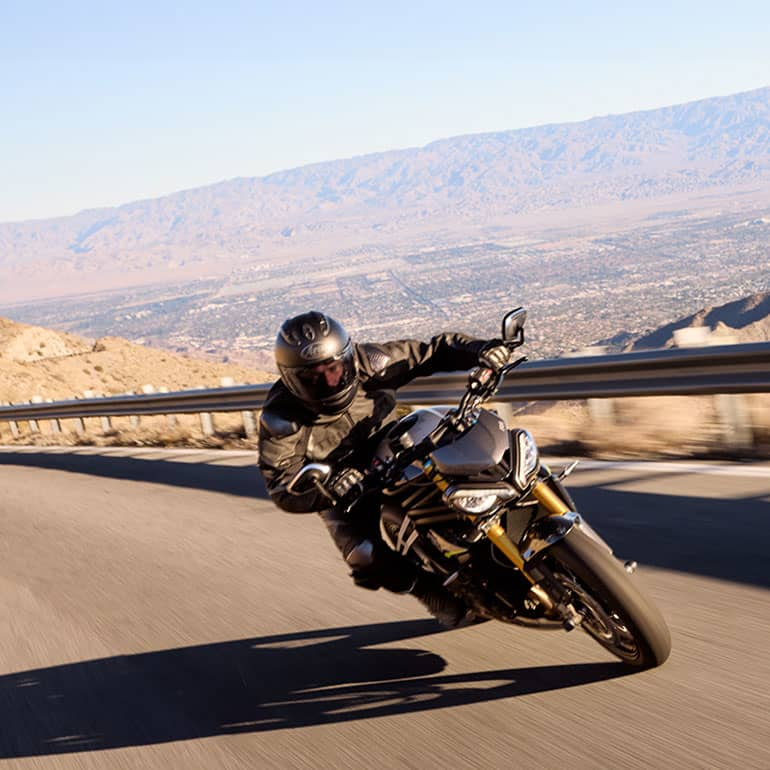Motorcycle: (233, 401, 690, 677)
